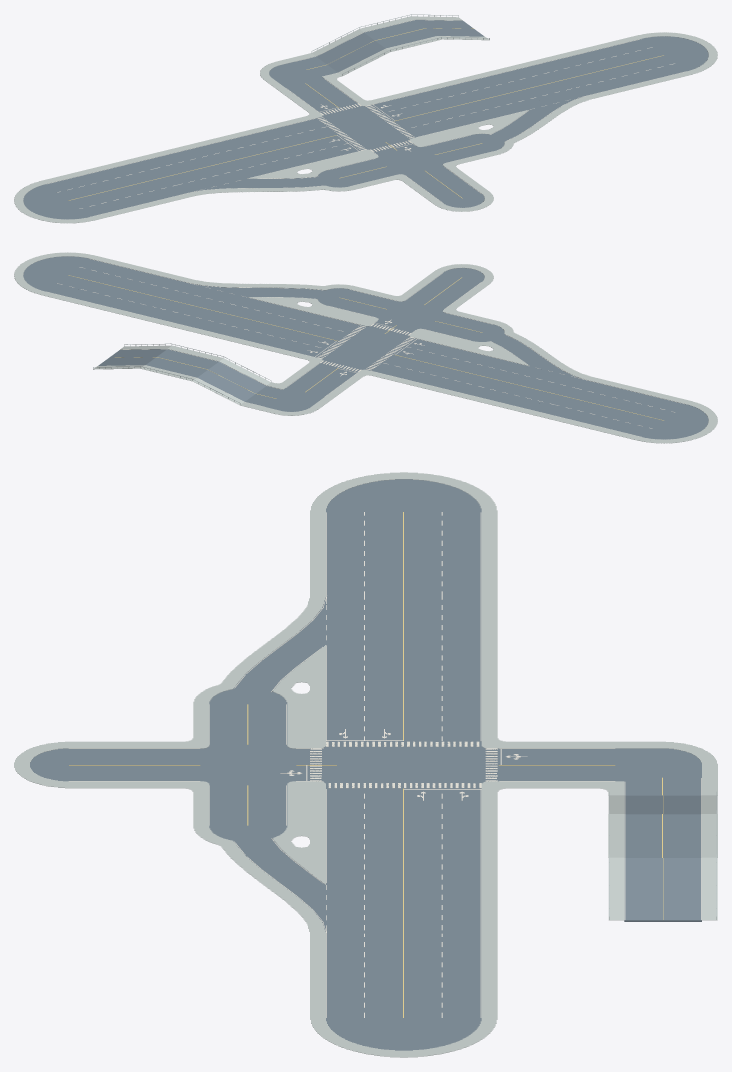
File: network-w98-s39.glb
The picture shows the model from 3 angles, top to bottom: view 1: azimuth 30°, elevation 25°; view 2: azimuth 150°, elevation 25°; view 3: azimuth 270°, elevation 25°; orthographic projection. The views are drawn at different scales.
Visible parts, largest first — view 1: Road_surface, Sidewalks, Lane_markings, Ramp_surface, Crosswalks, Bridge_railings; view 2: Road_surface, Sidewalks, Lane_markings, Ramp_surface, Crosswalks, Bridge_railings; view 3: Road_surface, Sidewalks, Ramp_surface, Lane_markings, Crosswalks.
Part boxes in pixels (<box>): Road_surface: <box>23,20,708,219</box>; Sidewalks: <box>14,16,717,223</box>; Lane_markings: <box>48,20,684,216</box>; Ramp_surface: <box>316,20,484,72</box>; Crosswalks: <box>317,103,414,152</box>; Bridge_railings: <box>311,14,489,75</box>; Road_surface: <box>23,256,708,439</box>; Sidewalks: <box>14,252,717,443</box>; Lane_markings: <box>48,259,684,436</box>; Ramp_surface: <box>98,349,265,401</box>; Crosswalks: <box>317,323,415,372</box>; Bridge_railings: <box>93,343,271,404</box>; Road_surface: <box>30,479,701,1050</box>; Sidewalks: <box>14,472,717,1057</box>; Ramp_surface: <box>624,795,701,921</box>; Lane_markings: <box>69,512,701,1017</box>; Crosswalks: <box>310,741,497,788</box>.
Size of the model in its own units: 347 by 7.51 by 176.
